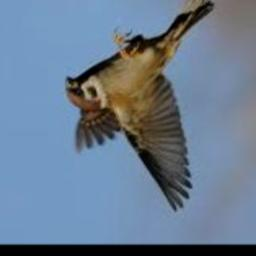Sparrow: (65, 0, 214, 212)
